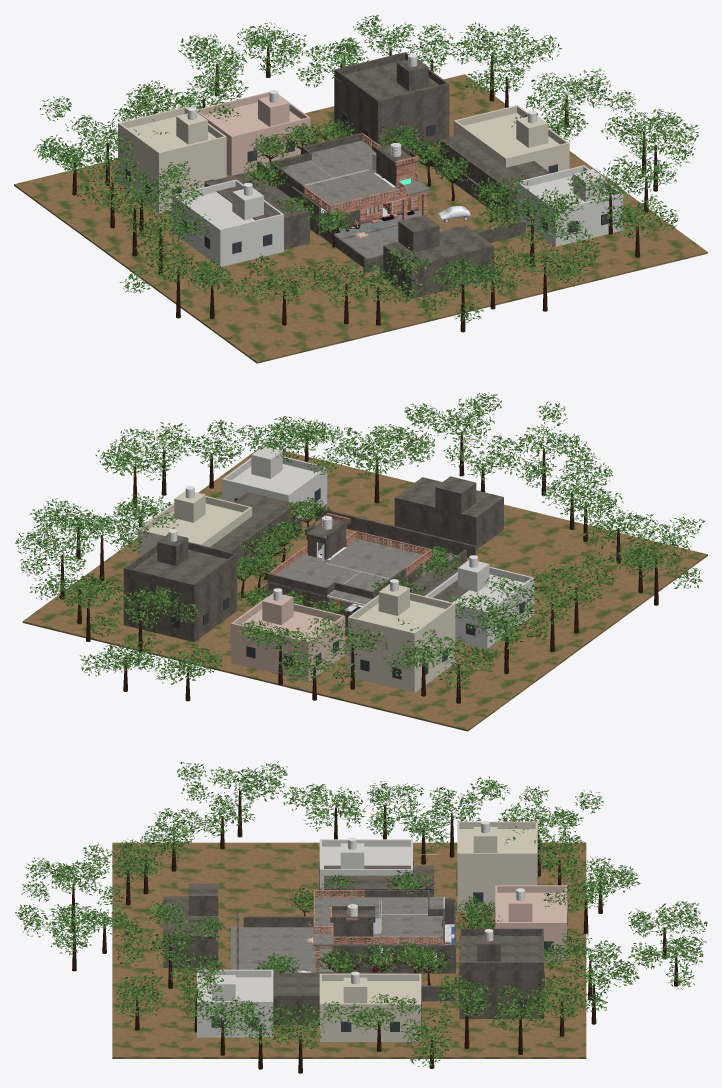
The model's file is house.glb.
3 renders of one model, top to bottom at view 1: azimuth 30°, elevation 25°; view 2: azimuth 150°, elevation 25°; view 3: azimuth 270°, elevation 25°, orthographic. The views are drawn at different scales.
Parts seen in each view (by area): view 1: Chunk_Environment_Ground, Chunk_Foliage, Chunk_Roof_Terrace, Chunk_Exterior_Facade, Chunk_Core_Structure; view 2: Chunk_Environment_Ground, Chunk_Foliage, Chunk_Roof_Terrace, Chunk_Tanka_Courtyard; view 3: Chunk_Environment_Ground, Chunk_Foliage, Chunk_Roof_Terrace, Chunk_Exterior_Facade.
Boxes of the visible parts, x1,y1,x2,y2 form: Chunk_Environment_Ground: [14, 46, 707, 363]; Chunk_Foliage: [33, 14, 698, 324]; Chunk_Roof_Terrace: [263, 132, 430, 213]; Chunk_Exterior_Facade: [319, 145, 427, 266]; Chunk_Core_Structure: [257, 161, 417, 235]; Chunk_Environment_Ground: [22, 431, 707, 731]; Chunk_Foliage: [15, 392, 705, 690]; Chunk_Roof_Terrace: [267, 513, 431, 605]; Chunk_Tanka_Courtyard: [263, 583, 362, 636]; Chunk_Environment_Ground: [71, 790, 678, 1073]; Chunk_Foliage: [15, 761, 707, 1066]; Chunk_Roof_Terrace: [313, 890, 444, 946]; Chunk_Exterior_Facade: [243, 906, 455, 973].
Size of the model in its own units: 77.4 by 15.09 by 82.01.
206 materials, 83 textured.
